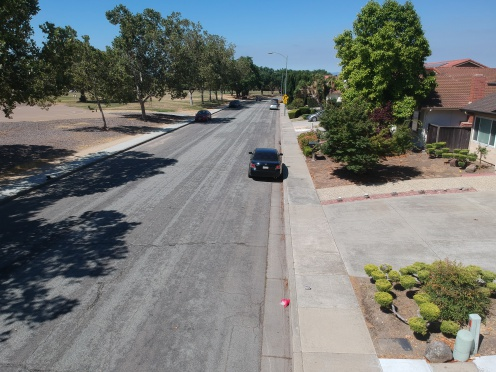can: (301, 283, 312, 291)
plastic bag: (277, 293, 293, 309)
